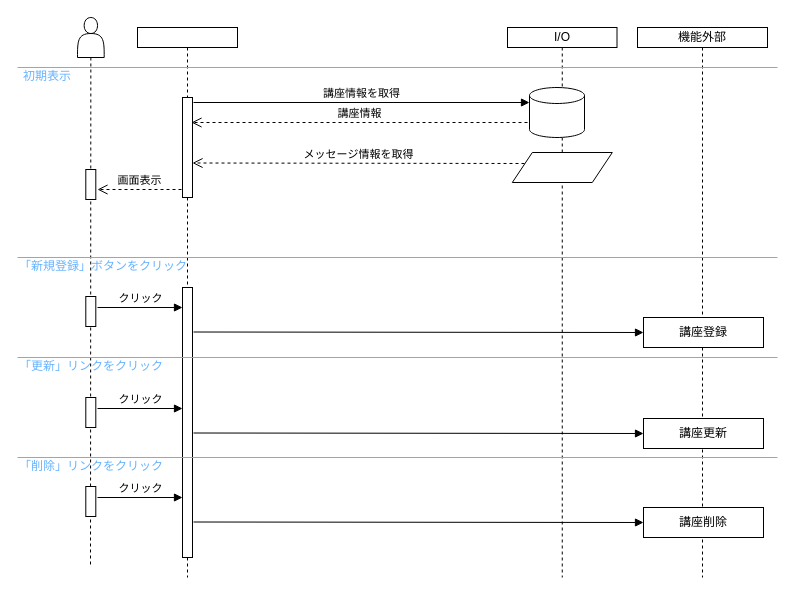
This 796x595 diagram has some shape labels left out. Here are the shapes that lost their labels. From the top down, the centre of each, then its label:
(556,112): 講座
(561,167): セッション
(187,302): メインフロー
